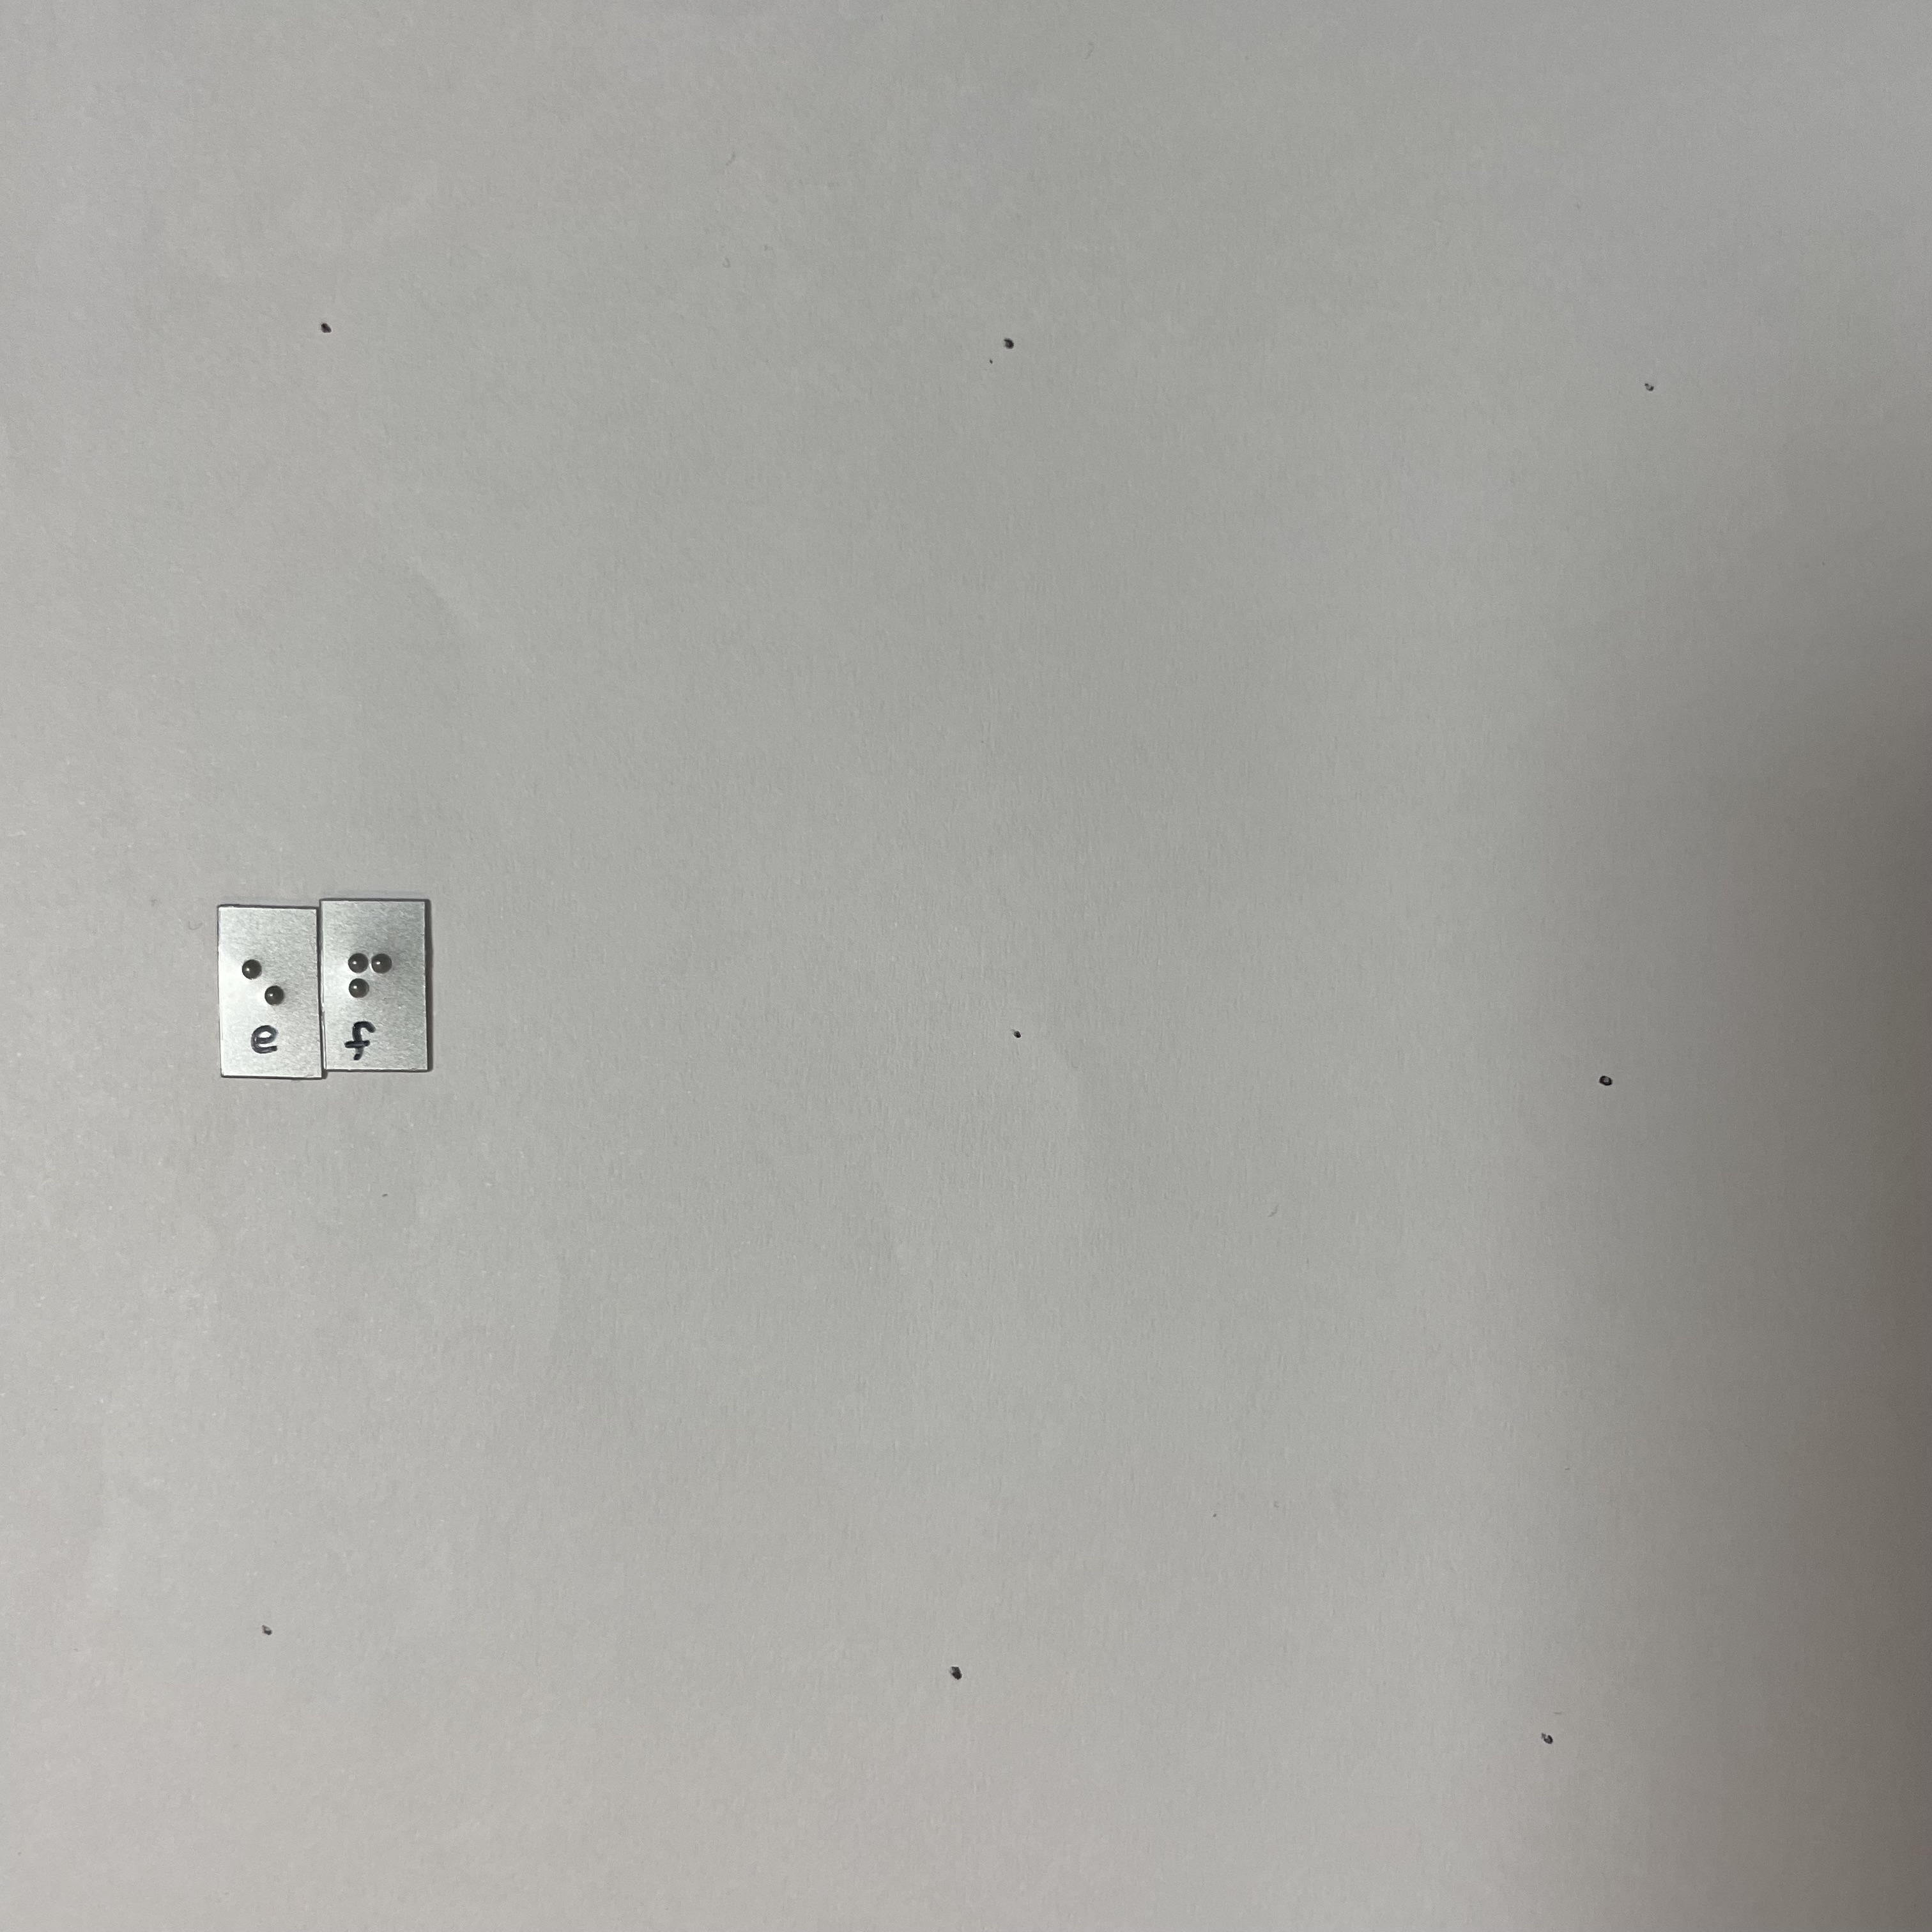e: (234, 947, 301, 1034)
f: (339, 937, 405, 1034)
